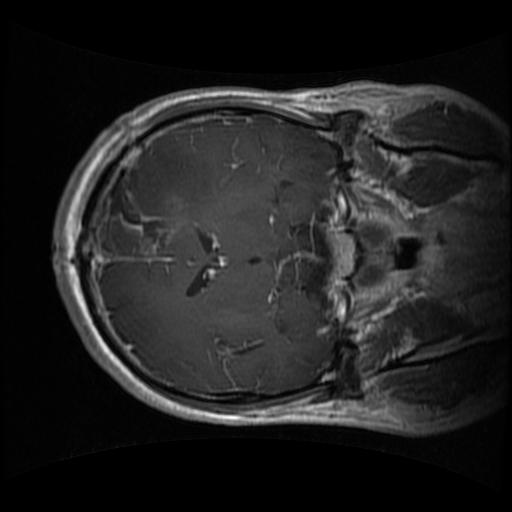glioma: (91, 174, 177, 266)
